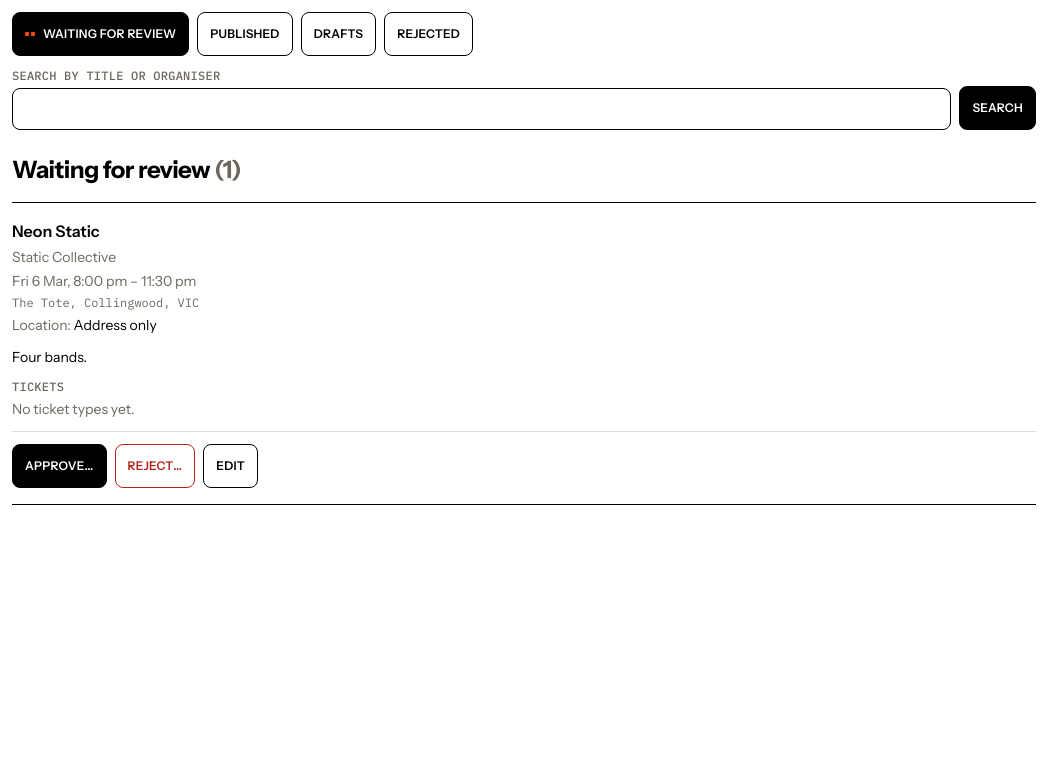
Test: EventQueue › the last event leaving moves focus to the list heading, then shows the empty state
The width and height of the screenshot is (1048, 780).
Click the button with aria-label "Approve Neon Static…". click: (59, 466)
box: left=12, top=444, right=107, bottom=488
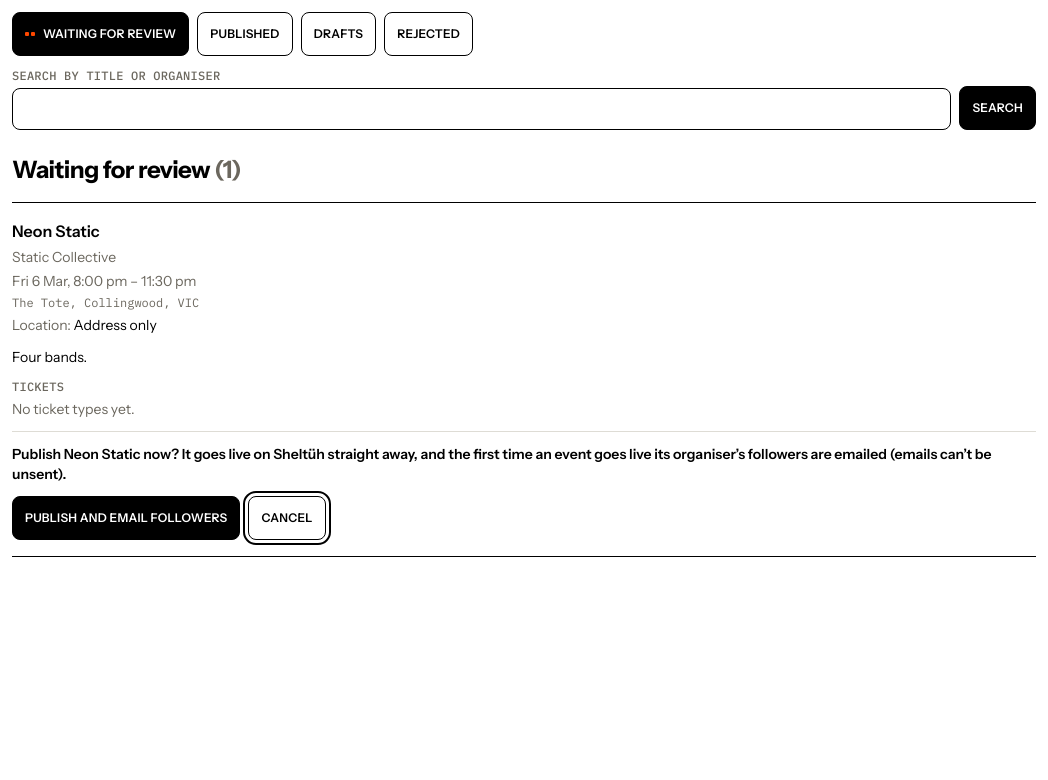
Click the button "Publish and email followers". click: (126, 518)
box: left=12, top=496, right=240, bottom=540
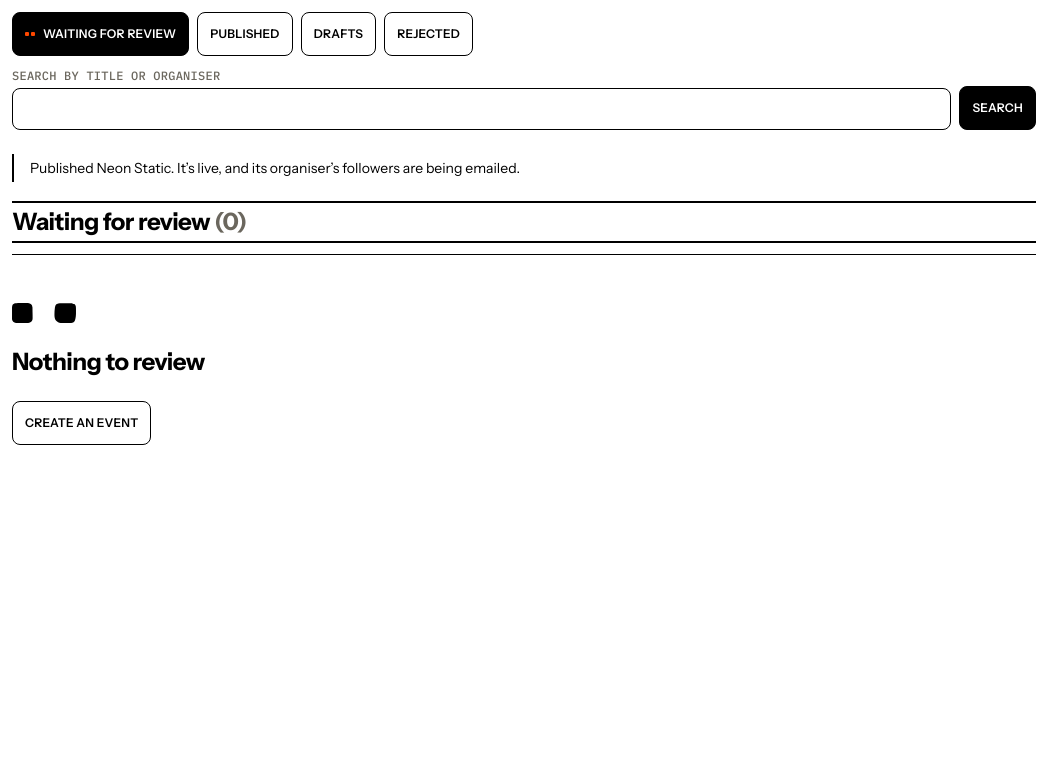
Check: the heading reads "Waiting for review (0)", box left=12, top=207, right=247, bottom=236
Check: the text "Nothing to review" is shown, box left=12, top=347, right=205, bottom=376
